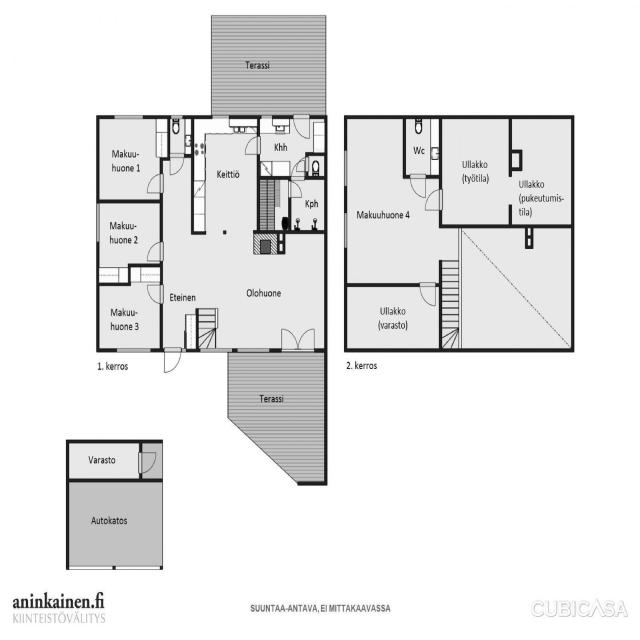door: (279, 322, 313, 354), (422, 184, 448, 217), (140, 175, 170, 199), (407, 166, 428, 199), (160, 341, 180, 374), (418, 278, 439, 309), (291, 112, 312, 142), (136, 448, 157, 474), (146, 241, 167, 265), (168, 152, 188, 175), (291, 156, 309, 181), (242, 138, 261, 160), (147, 284, 165, 304), (289, 181, 303, 202)
window: (196, 342, 269, 360), (110, 339, 160, 358), (103, 103, 148, 124), (88, 196, 105, 249), (340, 141, 350, 196), (206, 108, 236, 126), (168, 110, 190, 126), (343, 205, 349, 256)
zone: (344, 119, 438, 286), (461, 226, 577, 351), (216, 238, 341, 350), (65, 474, 162, 572), (435, 112, 511, 224), (189, 115, 258, 233), (506, 111, 574, 222), (341, 283, 438, 357), (98, 116, 162, 205), (92, 272, 164, 351), (95, 202, 162, 278), (66, 440, 142, 479), (258, 116, 304, 178), (400, 119, 439, 180), (288, 177, 324, 233), (255, 177, 288, 230), (164, 115, 190, 153), (306, 153, 326, 178)
